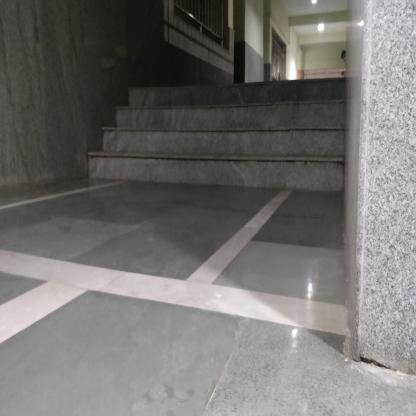stairs: (134, 78, 345, 193)
